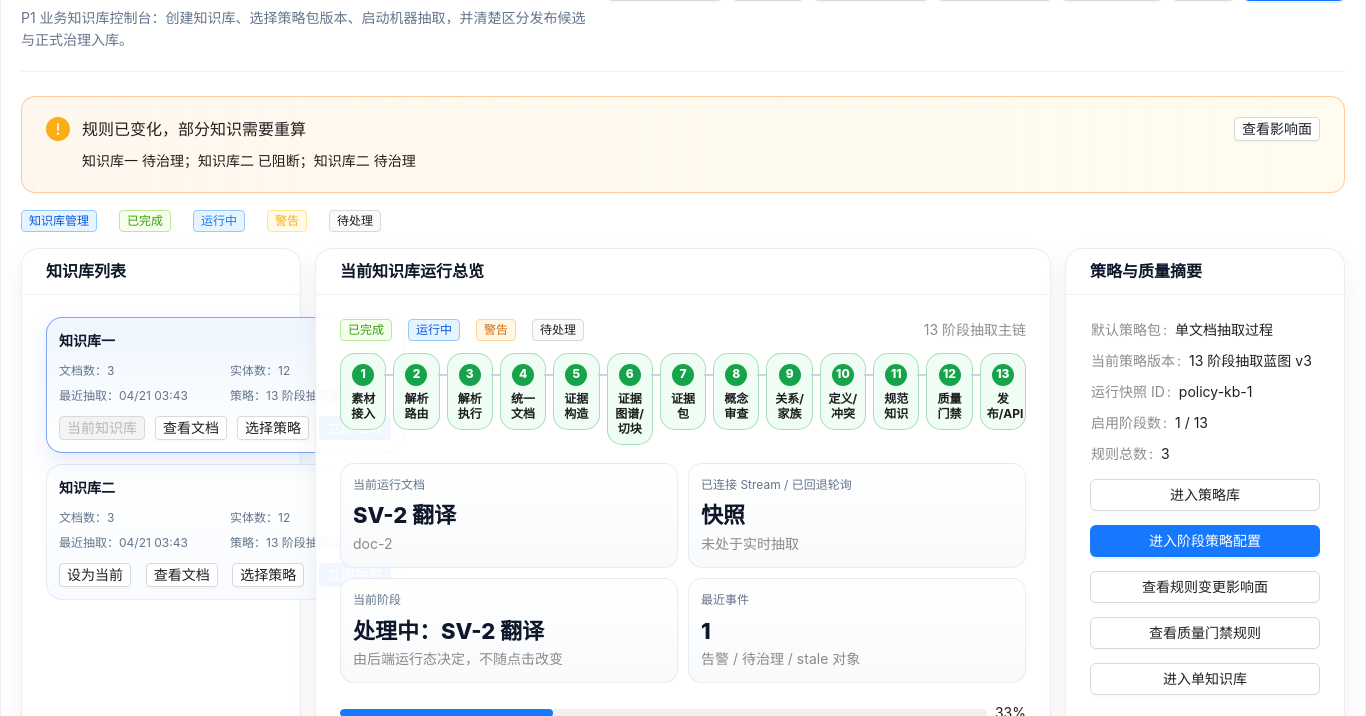
it: keeps live current stage pinned while allowing completed-stage snapshot review
Click the button "进入单知识库". click: (1205, 679)
box: [1090,663,1320,695]
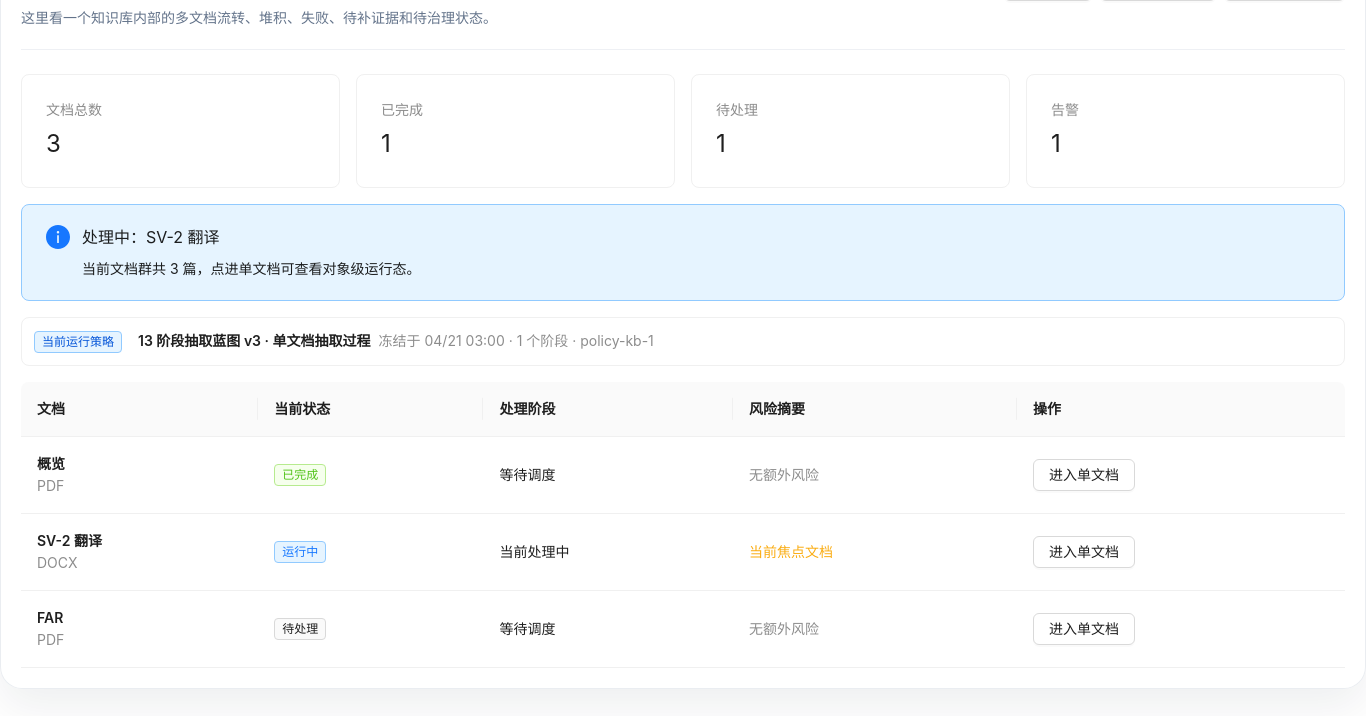
Click the button "进入单文档" in the row of "概览". click: (1084, 475)
box: [1033,459,1135,491]
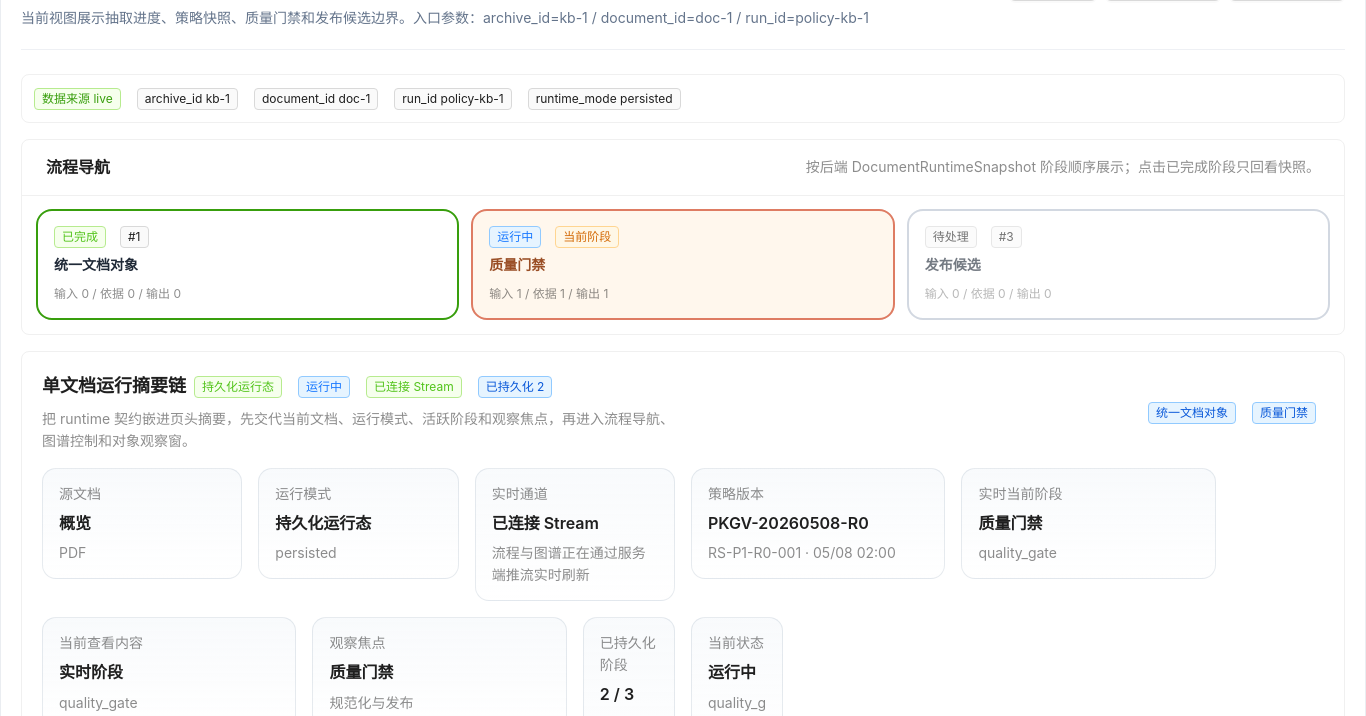
Expected: the button "运行中 当前阶段 质量门禁 输入 1 / 依据 1 / 输出 1" is shown, [471,209,895,320]
Expected: the button "已完成 #1 统一文档对象 输入 0 / 依据 0 / 输出 0" is shown
Expected: the button "待处理 #3 发布候选 输入 0 / 依据 0 / 输出 0" is disabled, [907,209,1330,320]
Click the button "已完成 #1 统一文档对象 输入 0 / 依据 0 / 输出 0". click: (80, 237)
box: [36,209,459,320]
(page scrolled)
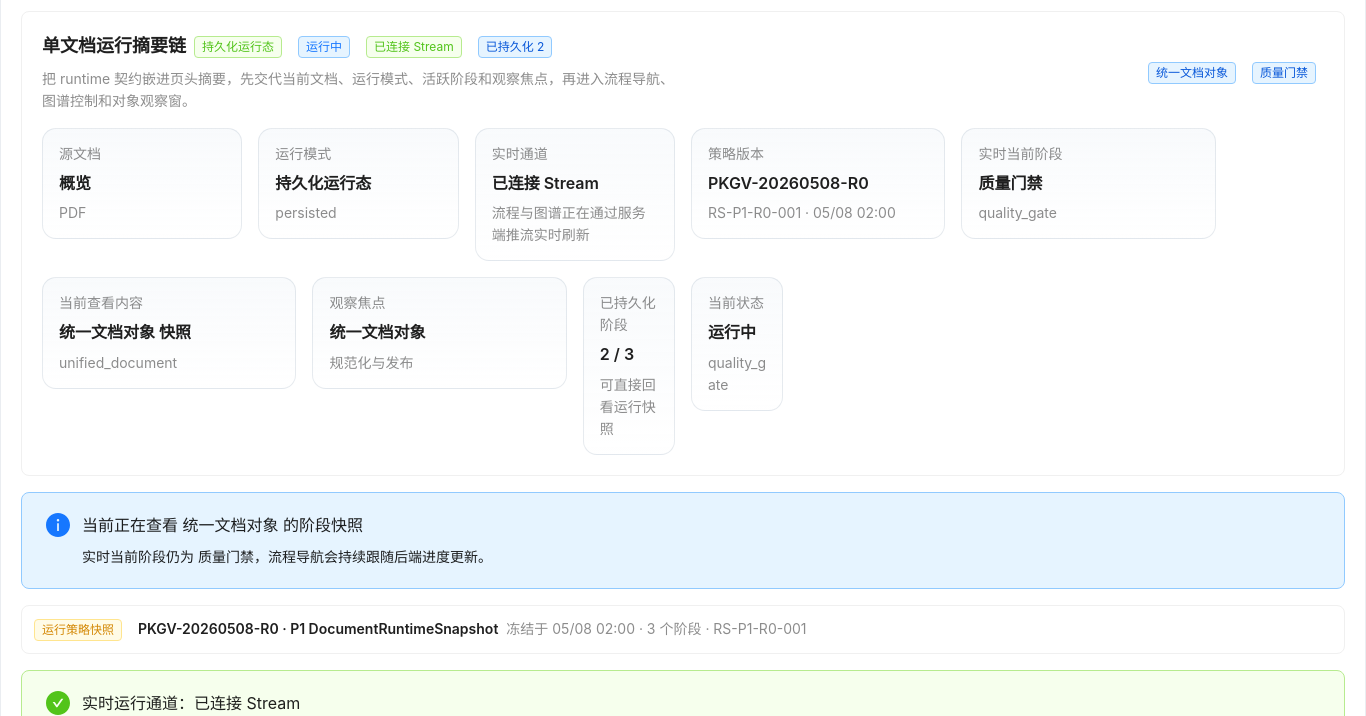
Expected: the element with test id "runtime-live-current-stage" shows "quality_gate", [978,204,1057,221]
Expected: the element with test id "runtime-inspected-stage" shows "unified_document", [59,354,177,371]
